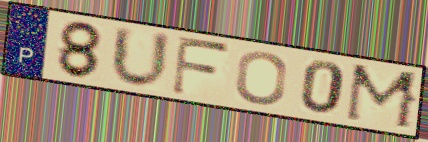0: (297, 59, 347, 116)
8: (55, 19, 105, 81)
F: (168, 33, 233, 98)
M: (342, 62, 423, 133)
O: (233, 50, 290, 106)
U: (108, 23, 174, 91)
